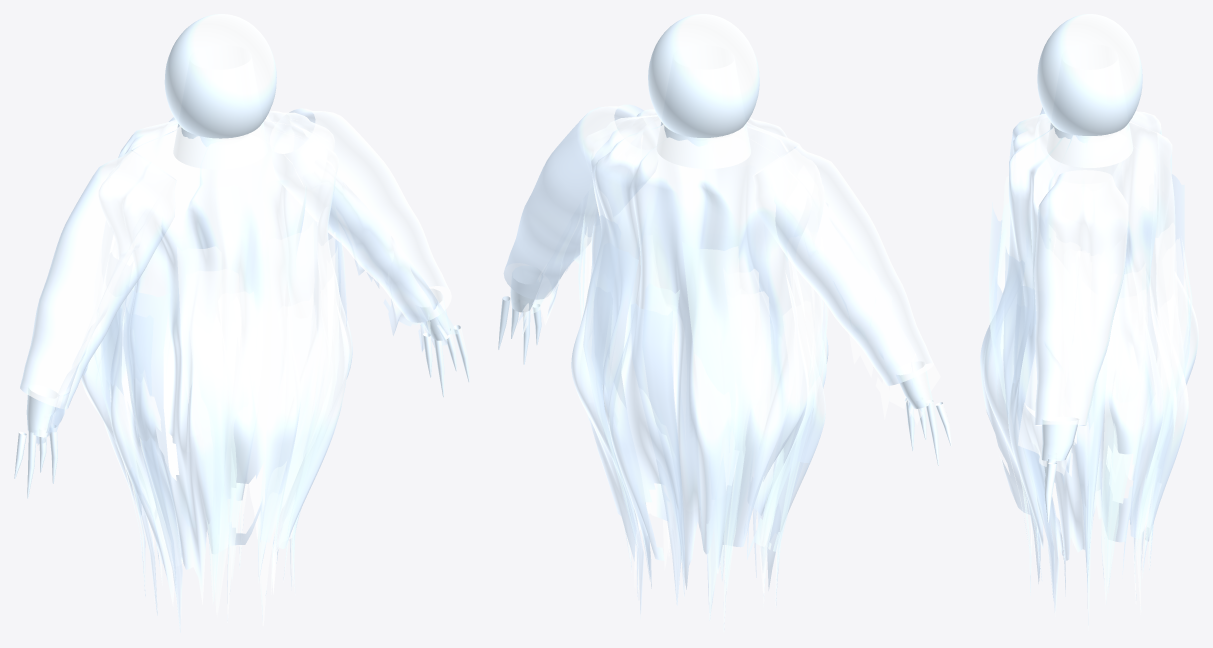
The model's file is adult.glb.
3 renders of one model, left to right at view 1: azimuth 30°, elevation 25°; view 2: azimuth 150°, elevation 25°; view 3: azimuth 270°, elevation 25°, orthographic. The views are drawn at different scales.
Parts seen in each view (by area): view 1: 01_Main_Draped_Shroud, 03_Left_Flowing_Sleeve, 03_Right_Flowing_Sleeve, 00_Smooth_Featureless_Head, 05_Torn_Layer_17, 05_Torn_Layer_16, 05_Torn_Layer_20, 05_Torn_Layer_14, 04_Right_Sleeve_Tattered_Curtain, 05_Torn_Layer_18, 05_Torn_Layer_19, 05_Torn_Layer_21 (+11 smaller); view 2: 01_Main_Draped_Shroud, 03_Left_Flowing_Sleeve, 03_Right_Flowing_Sleeve, 05_Torn_Layer_08, 00_Smooth_Featureless_Head, 04_Left_Sleeve_Tattered_Curtain, 05_Torn_Layer_10, 05_Torn_Layer_05, 05_Torn_Layer_07, 05_Torn_Layer_06, 05_Torn_Layer_09, 05_Torn_Layer_04 (+12 smaller); view 3: 01_Main_Draped_Shroud, 03_Right_Flowing_Sleeve, 00_Smooth_Featureless_Head, 04_Right_Sleeve_Tattered_Curtain, 05_Torn_Layer_01, 05_Torn_Layer_02, 05_Torn_Layer_04, 05_Torn_Layer_00, 05_Torn_Layer_05, 05_Torn_Layer_22, 02_Head_Neck_Transition, 05_Torn_Layer_21 (+17 smaller).
Part boxes in pixels (left/top/right/bottom): 01_Main_Draped_Shroud: left=81, top=111, right=352, bottom=606; 03_Left_Flowing_Sleeve: left=20, top=149, right=176, bottom=409; 03_Right_Flowing_Sleeve: left=270, top=108, right=451, bottom=322; 00_Smooth_Featureless_Head: left=164, top=14, right=276, bottom=138; 05_Torn_Layer_17: left=186, top=269, right=243, bottom=616; 05_Torn_Layer_16: left=177, top=246, right=224, bottom=603; 05_Torn_Layer_20: left=258, top=221, right=314, bottom=582; 05_Torn_Layer_14: left=123, top=288, right=182, bottom=632; 04_Right_Sleeve_Tattered_Curtain: left=332, top=175, right=457, bottom=352; 05_Torn_Layer_18: left=221, top=291, right=258, bottom=622; 05_Torn_Layer_19: left=260, top=294, right=318, bottom=625; 05_Torn_Layer_21: left=283, top=232, right=335, bottom=581; 01_Main_Draped_Shroud: left=571, top=109, right=828, bottom=590; 03_Left_Flowing_Sleeve: left=753, top=145, right=933, bottom=385; 03_Right_Flowing_Sleeve: left=503, top=104, right=658, bottom=299; 05_Torn_Layer_08: left=682, top=242, right=741, bottom=620; 00_Smooth_Featureless_Head: left=648, top=14, right=759, bottom=137; 04_Left_Sleeve_Tattered_Curtain: left=804, top=200, right=940, bottom=424; 05_Torn_Layer_10: left=723, top=291, right=771, bottom=590; 05_Torn_Layer_05: left=591, top=243, right=650, bottom=579; 05_Torn_Layer_07: left=631, top=303, right=682, bottom=605; 05_Torn_Layer_06: left=642, top=283, right=684, bottom=597; 05_Torn_Layer_09: left=723, top=269, right=760, bottom=631; 05_Torn_Layer_04: left=583, top=212, right=643, bottom=618; 01_Main_Draped_Shroud: left=980, top=109, right=1198, bottom=596; 03_Right_Flowing_Sleeve: left=1034, top=170, right=1128, bottom=425; 00_Smooth_Featureless_Head: left=1037, top=14, right=1142, bottom=135; 04_Right_Sleeve_Tattered_Curtain: left=1018, top=225, right=1079, bottom=476; 05_Torn_Layer_01: left=1107, top=263, right=1147, bottom=592; 05_Torn_Layer_02: left=1101, top=290, right=1145, bottom=603; 05_Torn_Layer_04: left=1136, top=222, right=1179, bottom=614; 05_Torn_Layer_00: left=1075, top=251, right=1107, bottom=585; 05_Torn_Layer_05: left=1148, top=238, right=1189, bottom=563; 05_Torn_Layer_22: left=1014, top=279, right=1054, bottom=600; 02_Head_Neck_Transition: left=1047, top=123, right=1132, bottom=167; 05_Torn_Layer_21: left=1003, top=247, right=1042, bottom=580.
Bounding box in the file's own units: 1.5 × 1.87 × 0.6363.
